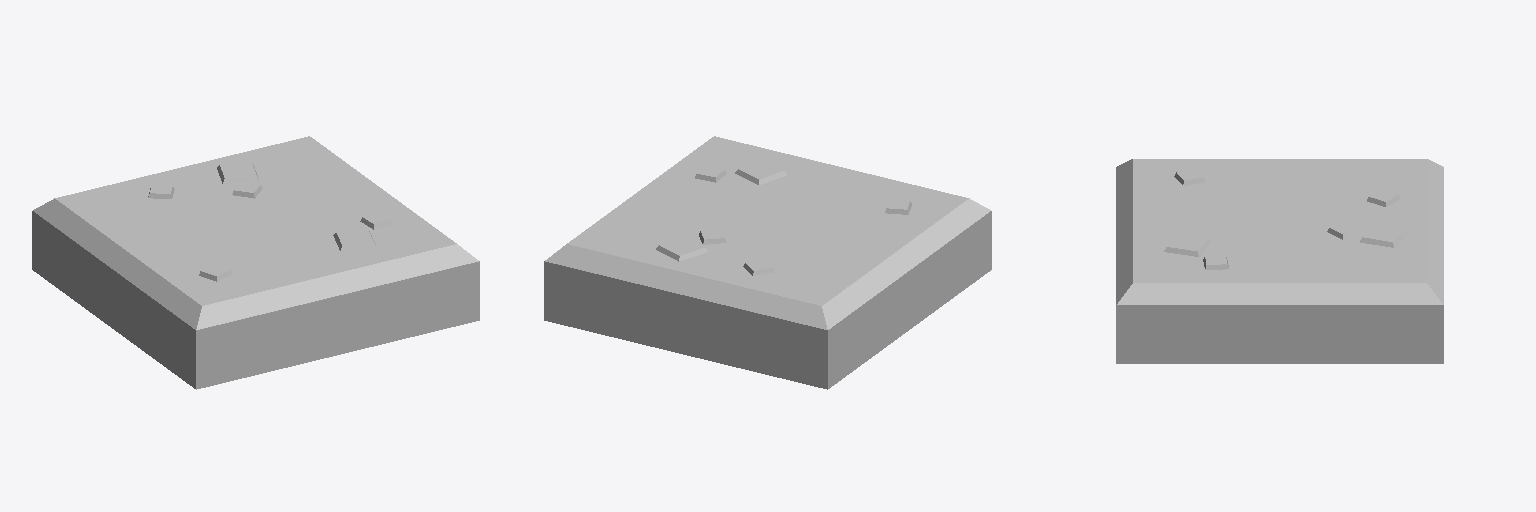
Rendered from floor_dirt_small.obj.
3 views of the same model, side by side, from view 1: azimuth 30°, elevation 25°; view 2: azimuth 150°, elevation 25°; view 3: azimuth 270°, elevation 25° (orthographic).
Visible parts, largest first — view 1: floor_dirt_small_Cube.646; view 2: floor_dirt_small_Cube.646; view 3: floor_dirt_small_Cube.646.
Part boxes in pixels (bbox=[...]): floor_dirt_small_Cube.646: bbox=[32, 136, 479, 389]; floor_dirt_small_Cube.646: bbox=[544, 136, 991, 389]; floor_dirt_small_Cube.646: bbox=[1116, 159, 1443, 363].
Bounding box in the file's own units: 2 × 0.53 × 2.